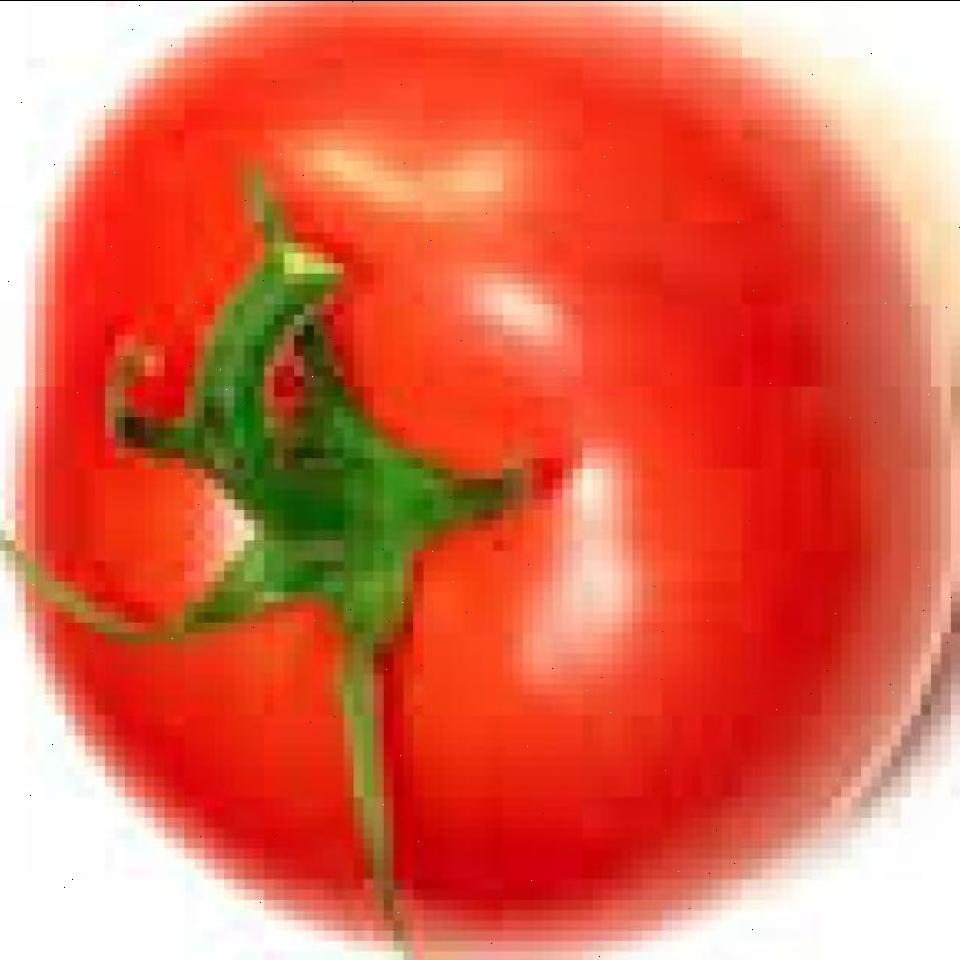Healthy: (9, 1, 948, 938)
